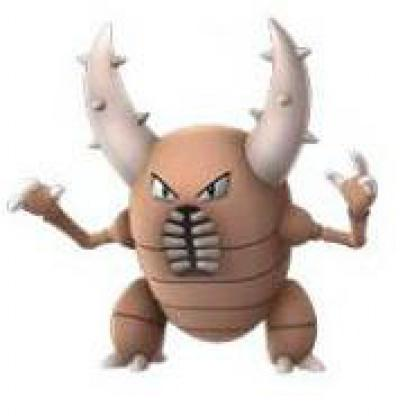Pinsir: (37, 26, 415, 415)
